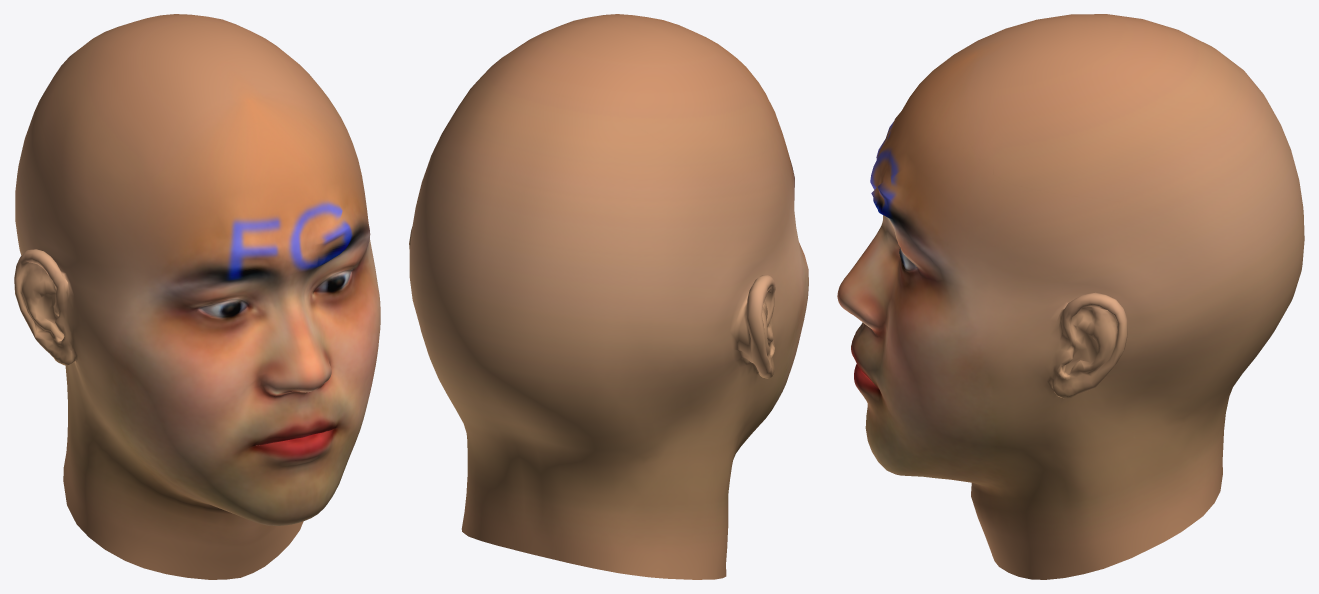
The model's file is avg_anyrace_male_08.obj.
The picture shows the model from 3 angles, left to right: view 1: azimuth 30°, elevation 25°; view 2: azimuth 150°, elevation 25°; view 3: azimuth 270°, elevation 25°; orthographic projection. The views are drawn at different scales.
Parts seen in each view (by area): view 1: HeadHires; view 2: HeadHires; view 3: HeadHires.
Part boxes in pixels (<box>): HeadHires: <box>14,14,380,579</box>; HeadHires: <box>409,14,808,579</box>; HeadHires: <box>837,14,1304,579</box>.
Size of the model in its own units: 190 by 283 by 228.
Materials: 3 (3 with a texture image).
